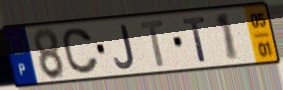1: (214, 10, 240, 64)
8: (32, 26, 67, 82)
C: (60, 26, 101, 76)
J: (112, 23, 136, 71)
T: (138, 18, 166, 69), (181, 15, 208, 65)
